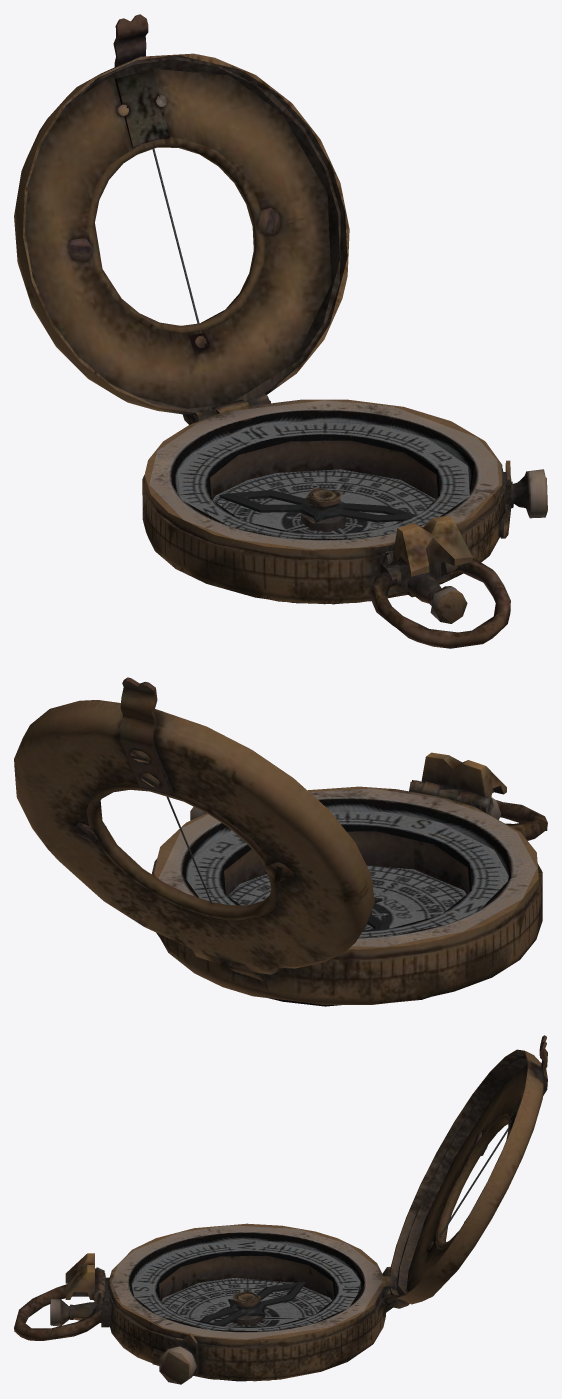
The model's file is compass.glb.
3 views of the same model, one above another, from view 1: azimuth 30°, elevation 25°; view 2: azimuth 150°, elevation 25°; view 3: azimuth 270°, elevation 25° (orthographic). The views are drawn at different scales.
Bounding box in the file's own units: 0.0811 × 0.0866 × 0.1434.
Materials: 1 (1 with a texture image).
